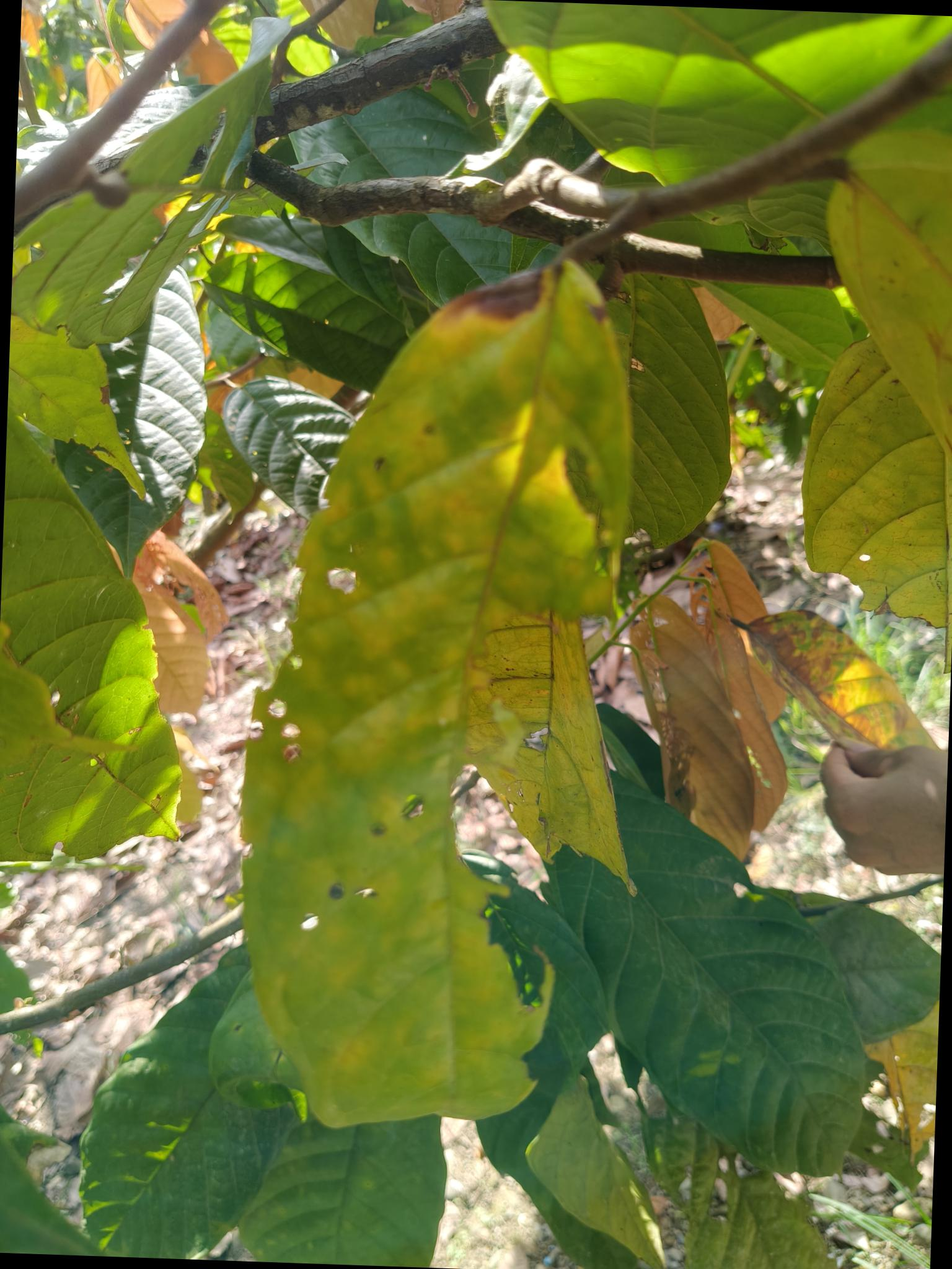Fosforo: (245, 250, 642, 1128)
